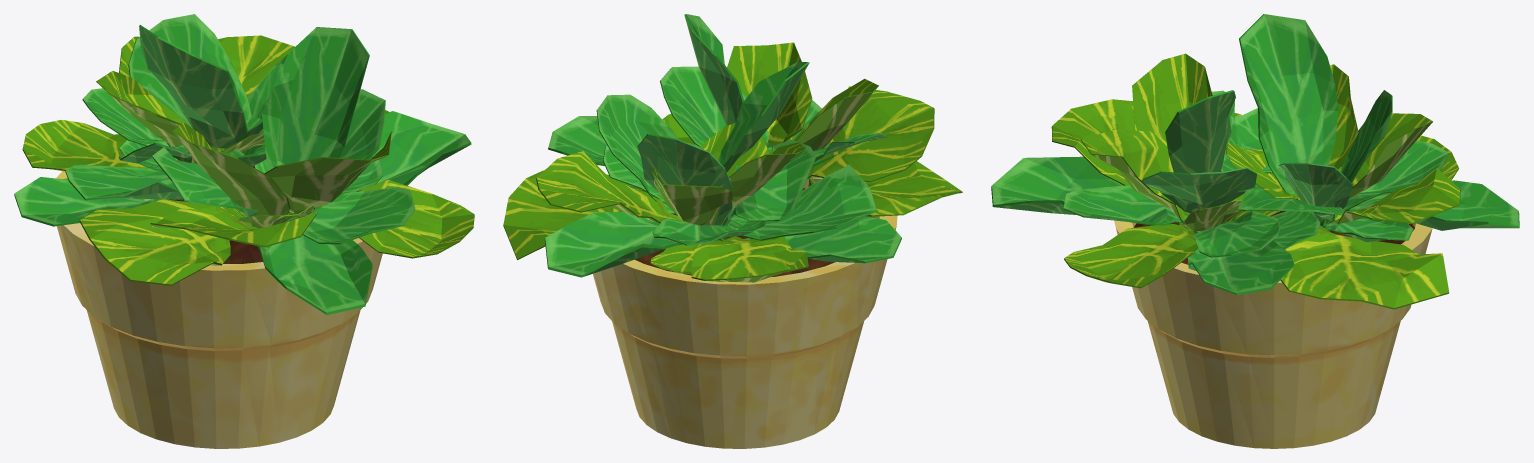
Rendered from Bergenia_Good_End.glb.
The picture shows the model from 3 angles, left to right: view 1: azimuth 30°, elevation 25°; view 2: azimuth 150°, elevation 25°; view 3: azimuth 270°, elevation 25°; orthographic projection. The views are drawn at different scales.
Visible parts, largest first — view 1: Pot.002, leaf_2.008, leaf_3.005, leaf_2.009, leaf_2.004, leaf_3.004, leaf_1.009, leaf_3.002, leaf_2.005, leaf_4.010, leaf_1.012, leaf_4.008 (+13 smaller); view 2: Pot.002, leaf_3.007, leaf_2.002, leaf_3.006, leaf_1.002, leaf_3.002, leaf_4.008, leaf_1.012, leaf_2.003, leaf_3.003, leaf_1.013, leaf_2.009 (+14 smaller); view 3: Pot.002, leaf_2.009, leaf_3.003, leaf_3.004, leaf_2.004, leaf_2.008, leaf_4.010, leaf_4.008, leaf_2.005, leaf_3.006, leaf_3.007, leaf_2.002 (+14 smaller).
Boxes of the visible parts, x1,y1,x2,y2 form: Pot.002: (56, 166, 382, 448); leaf_2.008: (262, 27, 369, 170); leaf_3.005: (79, 199, 230, 285); leaf_2.009: (139, 25, 247, 148); leaf_2.004: (257, 235, 372, 314); leaf_3.004: (313, 180, 474, 258); leaf_1.009: (284, 187, 415, 244); leaf_3.002: (22, 119, 188, 202); leaf_2.005: (375, 111, 471, 185); leaf_4.010: (172, 122, 290, 224); leaf_1.012: (128, 14, 251, 147); leaf_4.008: (264, 131, 391, 217); Pot.002: (593, 178, 897, 448); leaf_3.007: (807, 86, 934, 181); leaf_2.002: (545, 211, 682, 277); leaf_3.006: (536, 151, 689, 223); leaf_1.002: (724, 165, 876, 240); leaf_3.002: (691, 236, 808, 282); leaf_4.008: (727, 42, 812, 145); leaf_1.012: (637, 133, 732, 225); leaf_2.003: (744, 216, 901, 263); leaf_3.003: (503, 169, 646, 259); leaf_1.013: (596, 94, 678, 213); leaf_2.009: (718, 61, 809, 172); Pot.002: (1114, 211, 1432, 448); leaf_2.009: (1239, 14, 1338, 194); leaf_3.003: (1280, 225, 1449, 309); leaf_3.004: (1064, 224, 1197, 288); leaf_2.004: (991, 156, 1199, 232); leaf_2.008: (1165, 90, 1235, 212); leaf_4.010: (1132, 53, 1226, 227); leaf_4.008: (1080, 129, 1192, 230); leaf_2.005: (1187, 240, 1294, 295); leaf_3.006: (1321, 168, 1460, 224); leaf_3.007: (1051, 99, 1135, 185); leaf_2.002: (1323, 180, 1519, 230).
Bounding box in the file's own units: 2.77 × 2.52 × 3.35.
3 materials, 3 textured.
